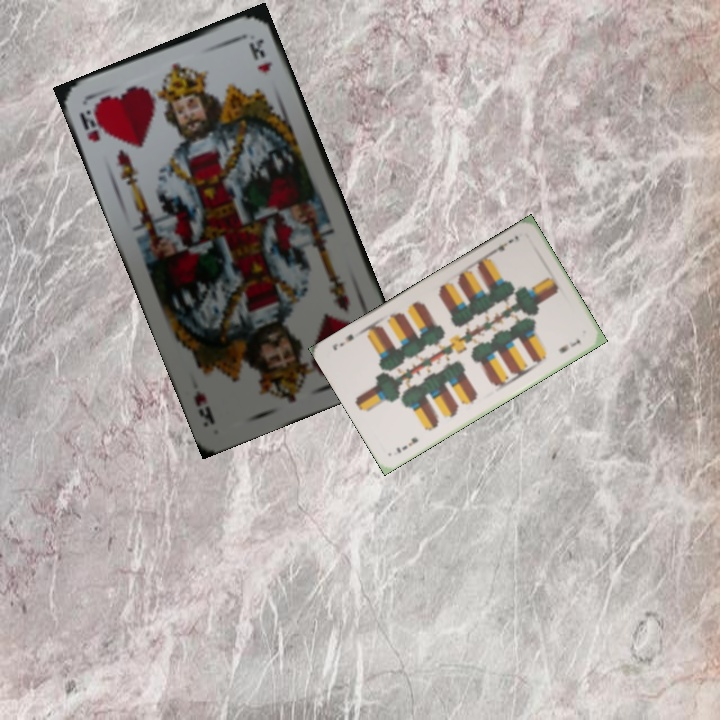E7: (487, 231, 522, 257), (392, 433, 420, 456)
HK: (75, 99, 108, 145)
